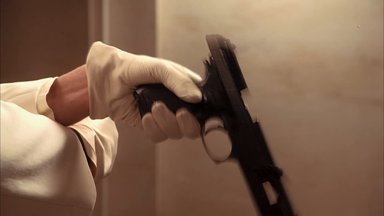firearm: (127, 31, 298, 213)
